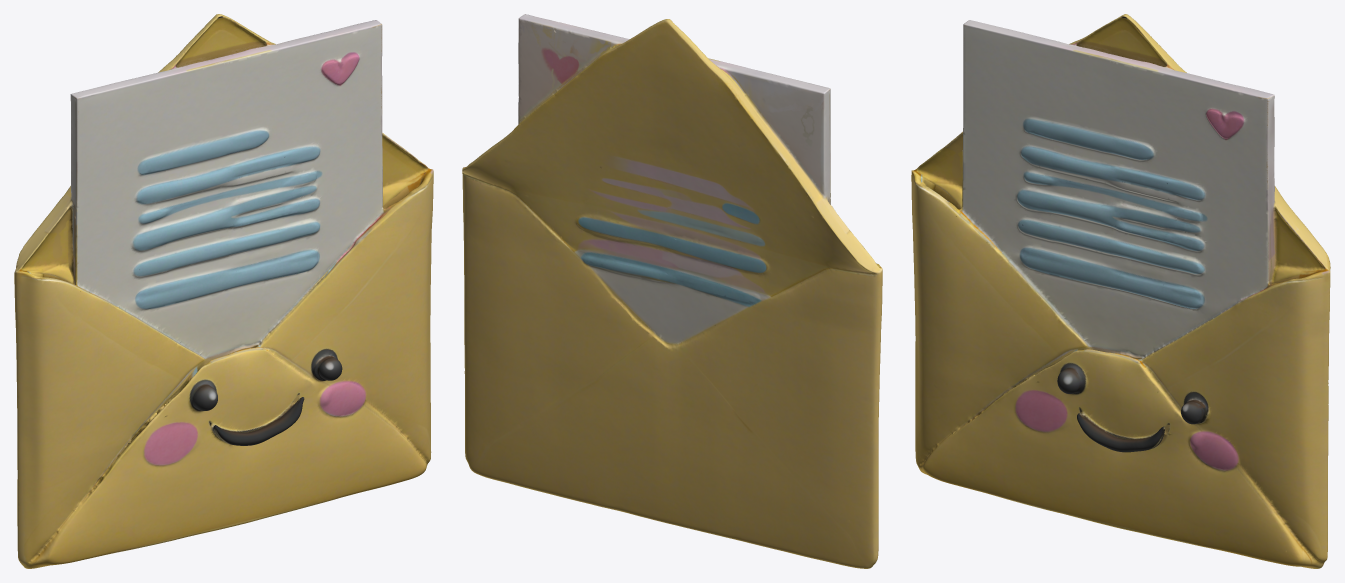
Rendered from email.glb.
The picture shows the model from 3 angles, left to right: view 1: azimuth 30°, elevation 25°; view 2: azimuth 150°, elevation 25°; view 3: azimuth 330°, elevation 25°; orthographic projection.
Bounding box in the file's own units: 56518 × 65377 × 7462.
1 material, 1 textured.
